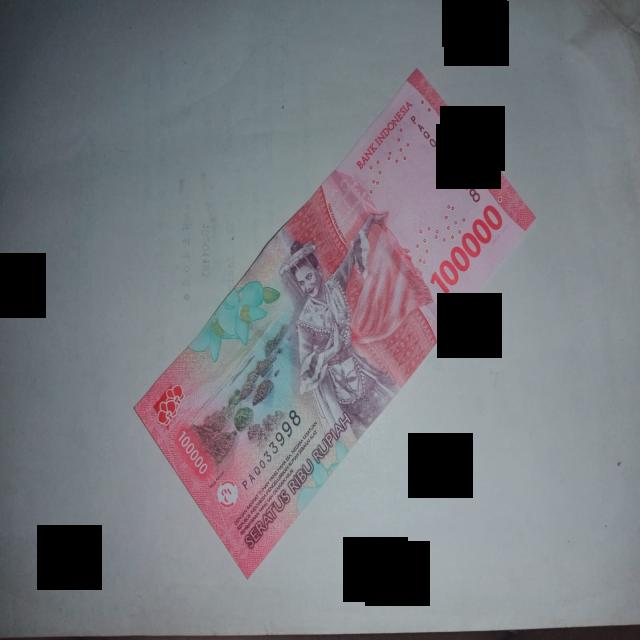seratusribu rupiah: (135, 70, 534, 577)
